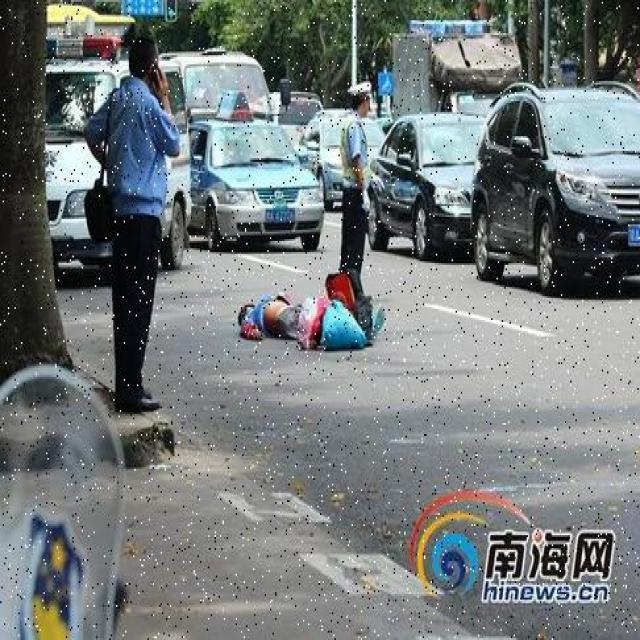fall: (237, 288, 387, 358)
